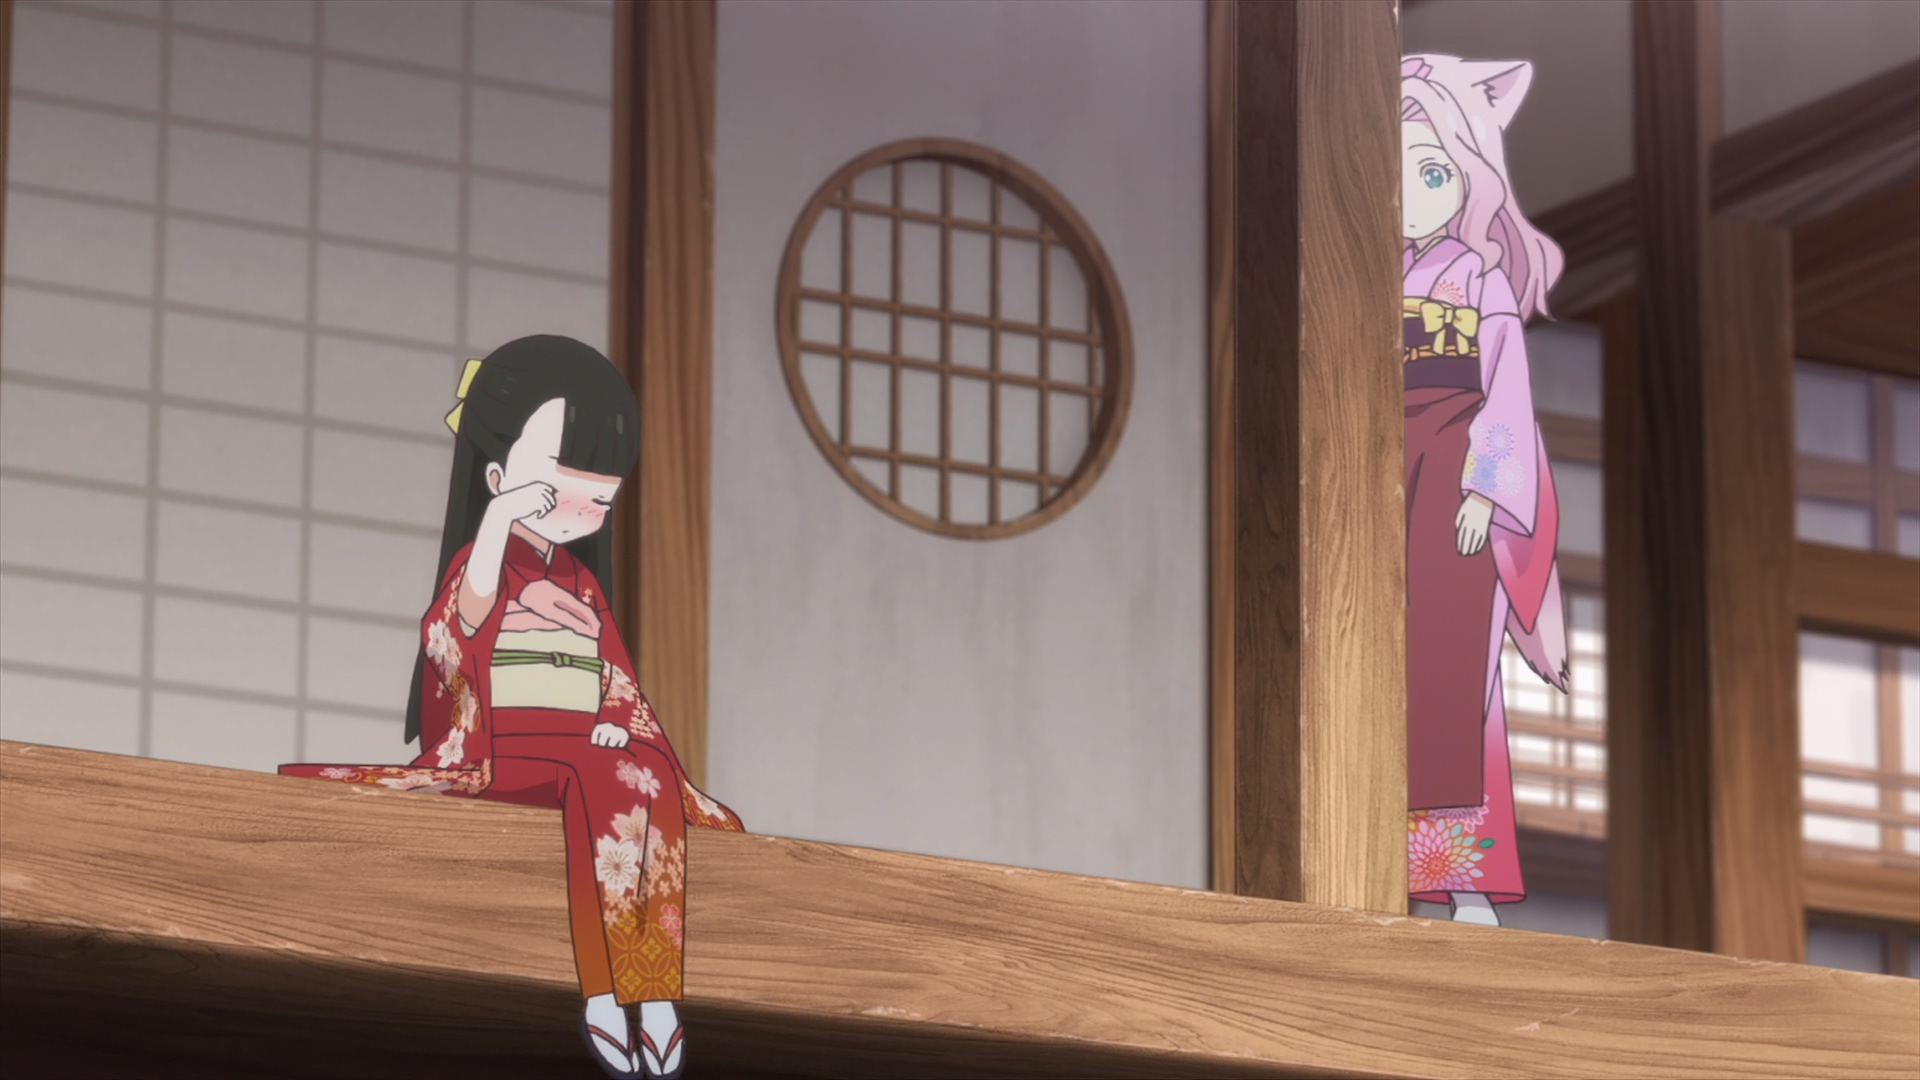其他: (281, 335, 744, 1080)
莲: (1400, 51, 1569, 924)
